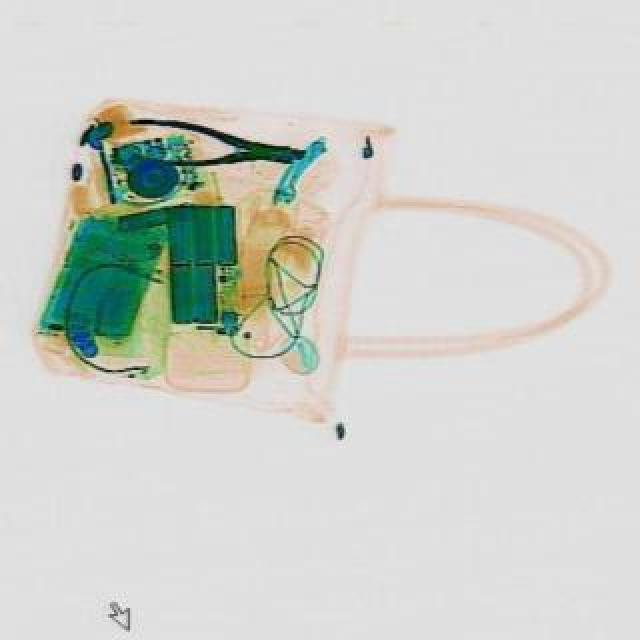wrench: (128, 118, 312, 184)
